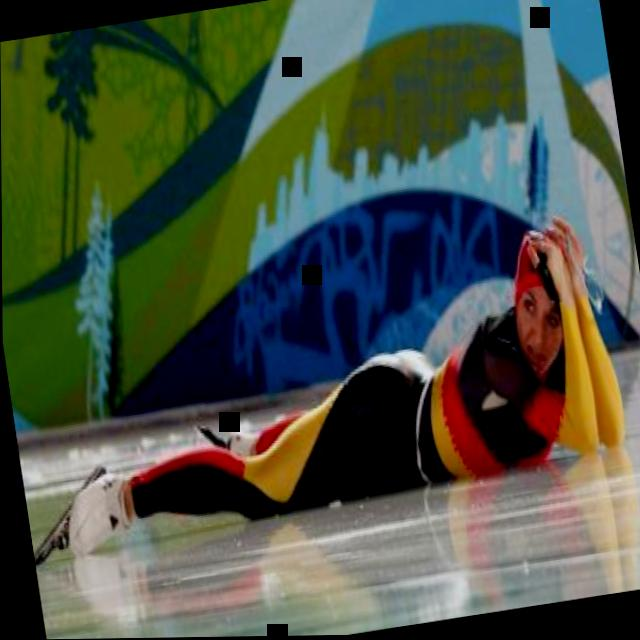Fall-Detected: (1, 146, 640, 566)
